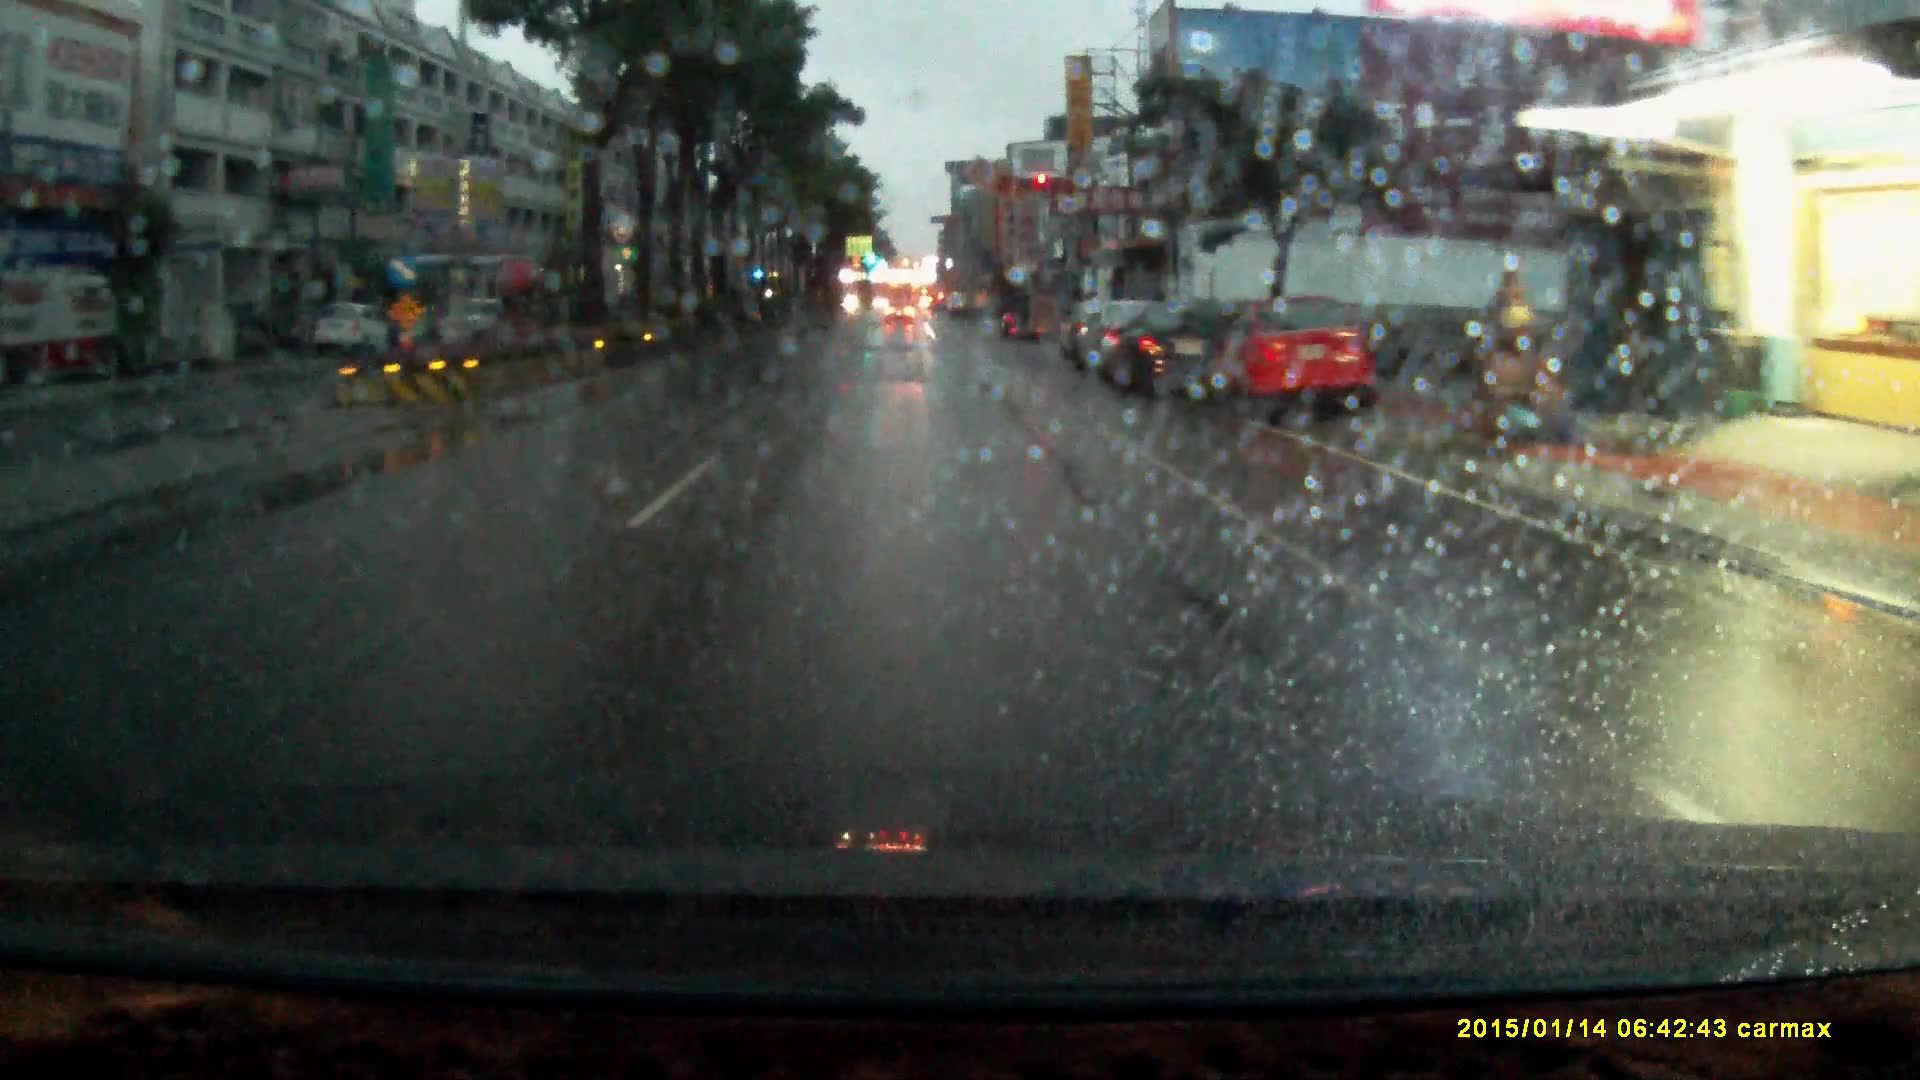vehicle: (1204, 301, 1374, 422), (1101, 302, 1225, 405), (1077, 301, 1158, 378), (313, 303, 392, 359), (423, 298, 524, 342), (1056, 301, 1101, 361), (996, 293, 1048, 344), (884, 302, 918, 330)
